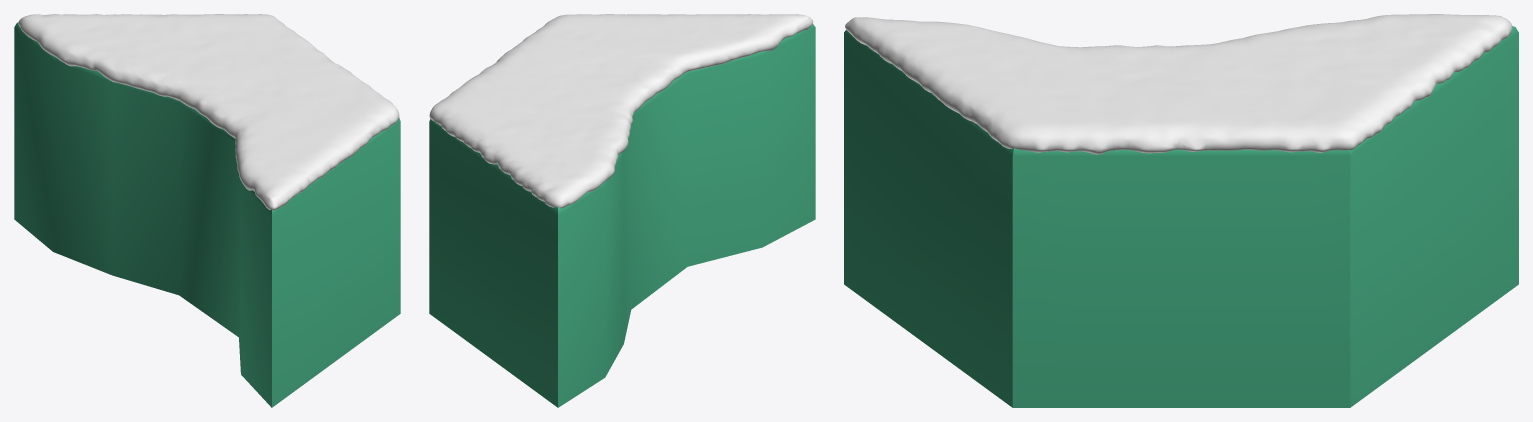
File: hex_forest_waterC_empty.fbx
3 views of the same model, side by side, from view 1: azimuth 30°, elevation 25°; view 2: azimuth 150°, elevation 25°; view 3: azimuth 270°, elevation 25° (orthographic). The views are drawn at different scales.
Parts seen in each view (by area): view 1: hex_forest_waterC_empty, SnowBall.001; view 2: hex_forest_waterC_empty, SnowBall.001; view 3: hex_forest_waterC_empty, SnowBall.001.
Boxes of the visible parts, x1,y1,x2,y2 form: hex_forest_waterC_empty: (14,22,400,407); SnowBall.001: (18,14,399,210); hex_forest_waterC_empty: (429,24,815,407); SnowBall.001: (429,14,813,208); hex_forest_waterC_empty: (844,26,1518,407); SnowBall.001: (845,14,1512,154).
Size of the model in its own units: 105 by 104 by 231.
